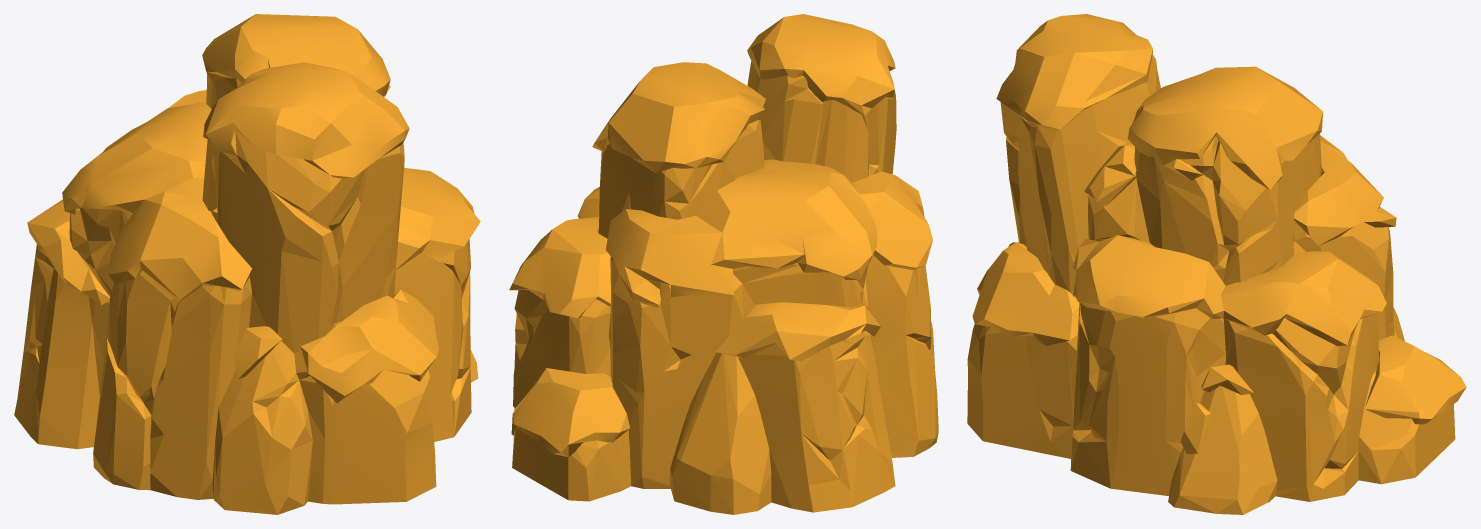
File: SM_Rock_C_Snow.fbx
3 renders of one model, left to right at view 1: azimuth 30°, elevation 25°; view 2: azimuth 150°, elevation 25°; view 3: azimuth 270°, elevation 25°, orthographic. The views are drawn at different scales.
Visible parts, largest first — view 1: rock-c-snow; view 2: rock-c-snow; view 3: rock-c-snow.
Boxes of the visible parts, box(x1,y1,x2,y2) form: rock-c-snow: box(14, 14, 480, 514); rock-c-snow: box(509, 14, 938, 514); rock-c-snow: box(967, 14, 1466, 514).
Bounding box in the file's own units: 13.58 × 12.2 × 14.89.
